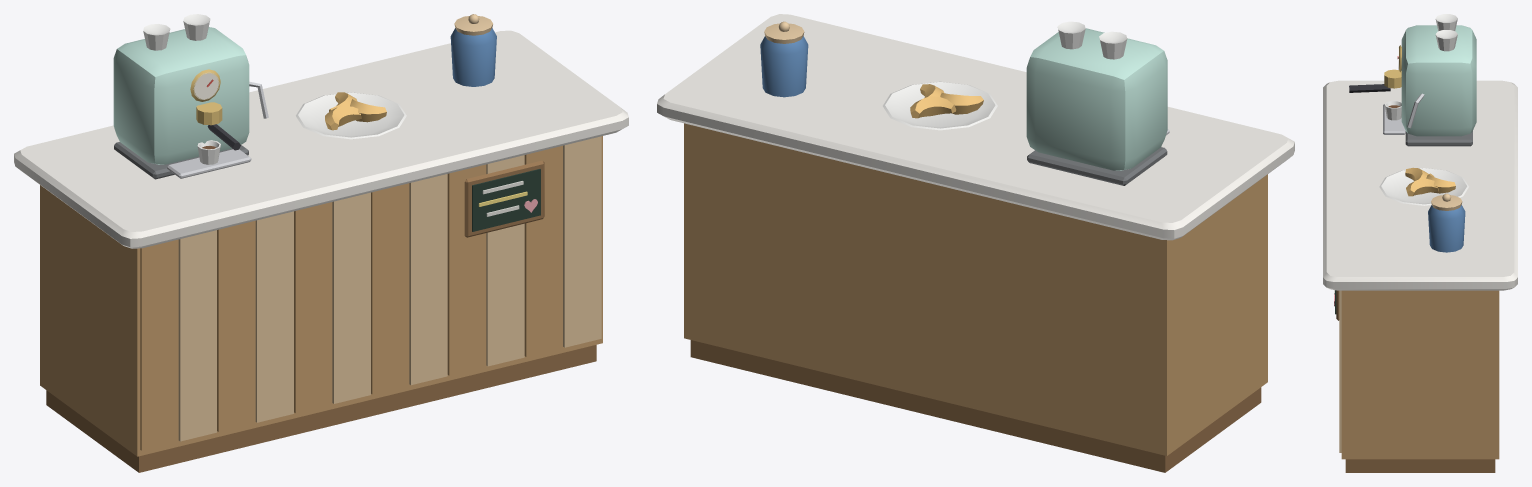
Rendered from furn_counter.glb.
The picture shows the model from 3 angles, left to right: view 1: azimuth 30°, elevation 25°; view 2: azimuth 150°, elevation 25°; view 3: azimuth 270°, elevation 25°; orthographic projection. The views are drawn at different scales.
Visible parts, largest first — view 1: furn_counter_body; view 2: furn_counter_body; view 3: furn_counter_body.
Part boxes in pixels (x1,y1,x2,y2): furn_counter_body: (14, 14, 628, 472); furn_counter_body: (657, 14, 1294, 472); furn_counter_body: (1323, 14, 1517, 472).
Size of the model in its own units: 1.26 by 0.9 by 0.52.
